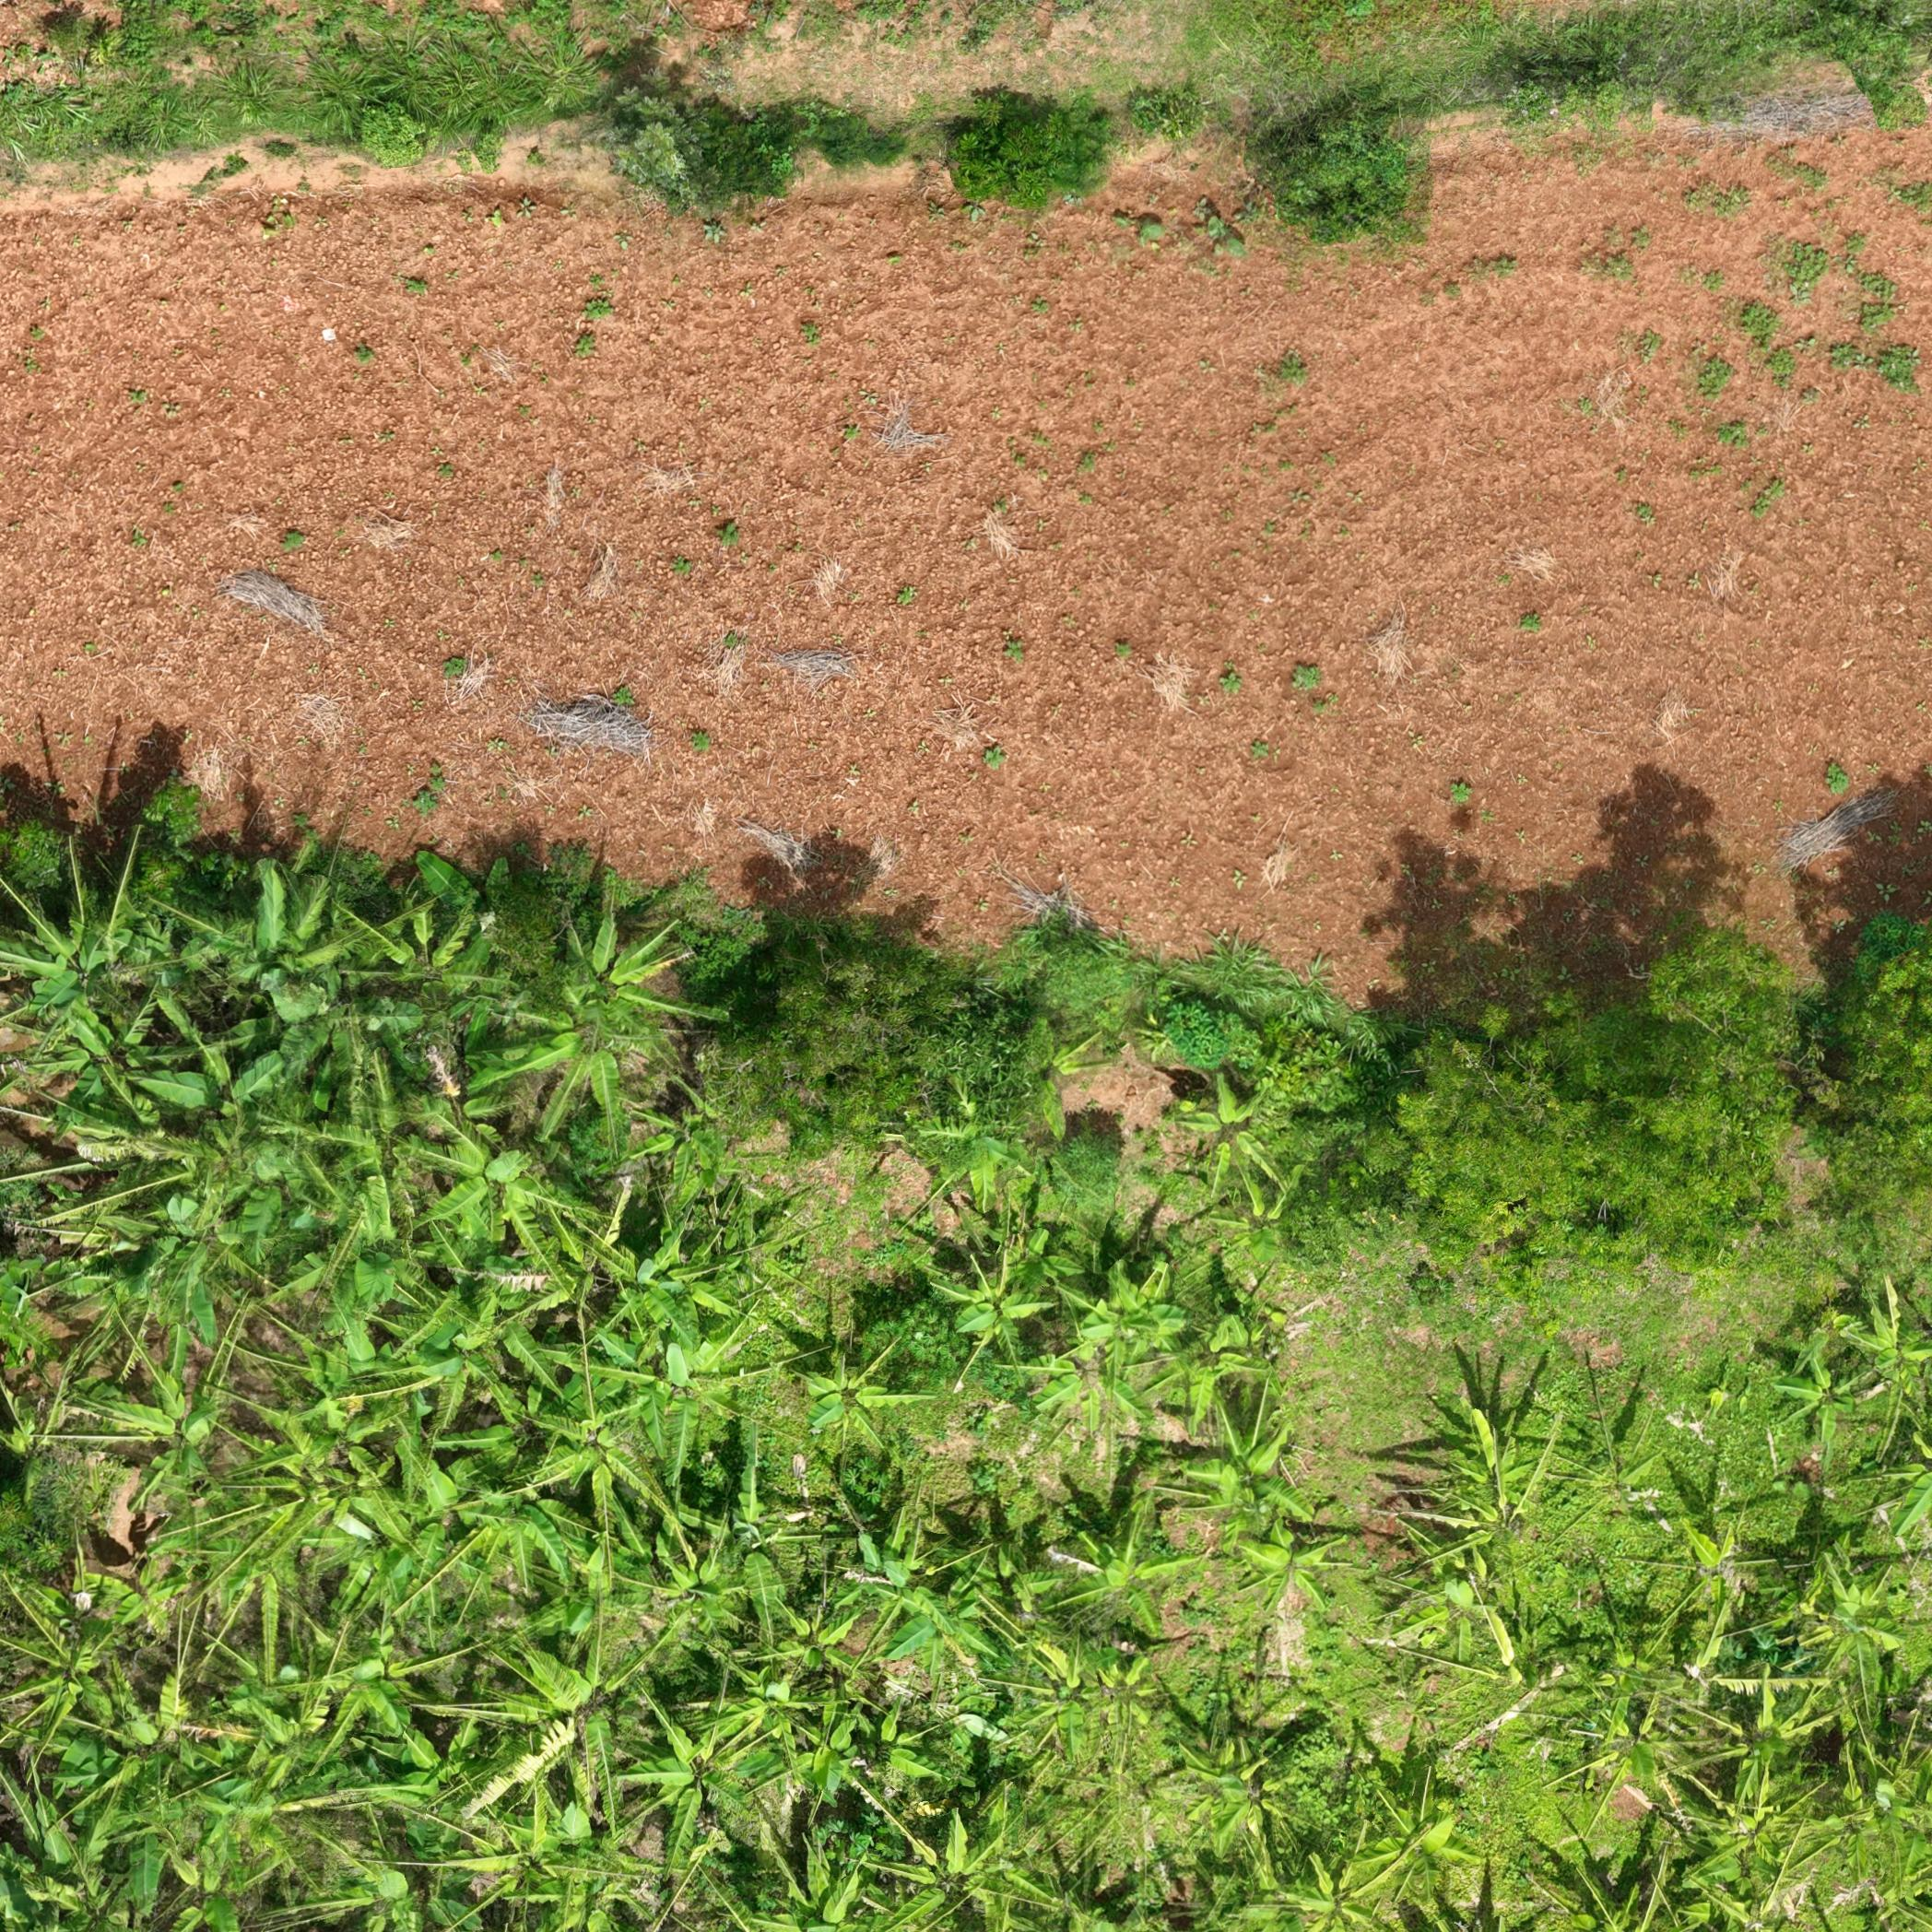Banana: (200, 844, 379, 1058), (446, 1637, 663, 1806), (9, 819, 170, 1042), (1504, 1348, 1684, 1530), (602, 1500, 782, 1672), (4, 1571, 149, 1773), (1017, 1495, 1205, 1645), (19, 998, 188, 1143), (862, 1792, 1040, 1925), (4, 1789, 172, 1928), (1656, 1769, 1840, 1893), (51, 1385, 235, 1502), (295, 1819, 494, 1927), (347, 1711, 510, 1836), (817, 1504, 964, 1642), (679, 1640, 844, 1762), (1399, 1398, 1506, 1576), (1817, 1265, 1928, 1435), (218, 1677, 382, 1792), (1348, 1780, 1486, 1916), (1645, 1499, 1778, 1638), (1178, 1161, 1334, 1279), (754, 1569, 869, 1707), (1320, 1656, 1476, 1757), (1539, 1842, 1697, 1928), (1760, 1334, 1874, 1453), (743, 1828, 872, 1928), (619, 1088, 755, 1182), (1166, 1709, 1292, 1799), (4, 1382, 78, 1509)
